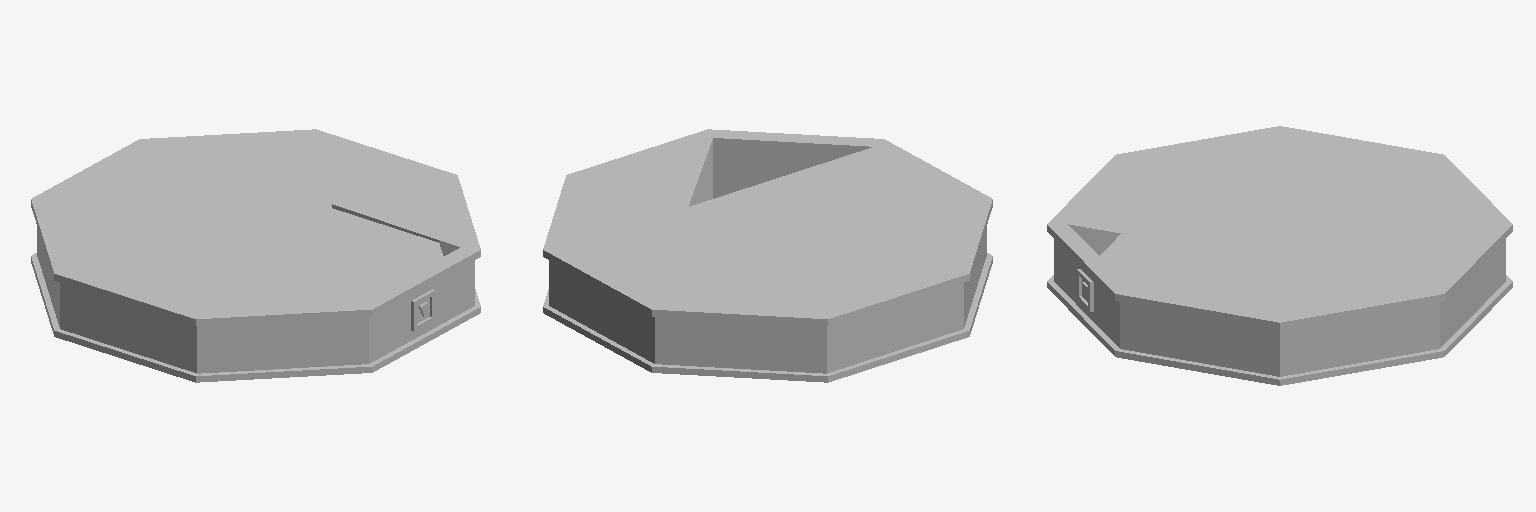
The model's file is decoupler_simple.obj.
The picture shows the model from 3 angles: view 1: azimuth 30°, elevation 25°; view 2: azimuth 150°, elevation 25°; view 3: azimuth 270°, elevation 25°; orthographic projection.
Parts seen in each view (by area): view 1: Cylinder; view 2: Cylinder; view 3: Cylinder.
Part boxes in pixels (x1,y1,x2,y2): Cylinder: (31,129,480,382); Cylinder: (543,129,992,382); Cylinder: (1047,126,1512,385).
Size of the model in its own units: 2 by 0.3 by 2.